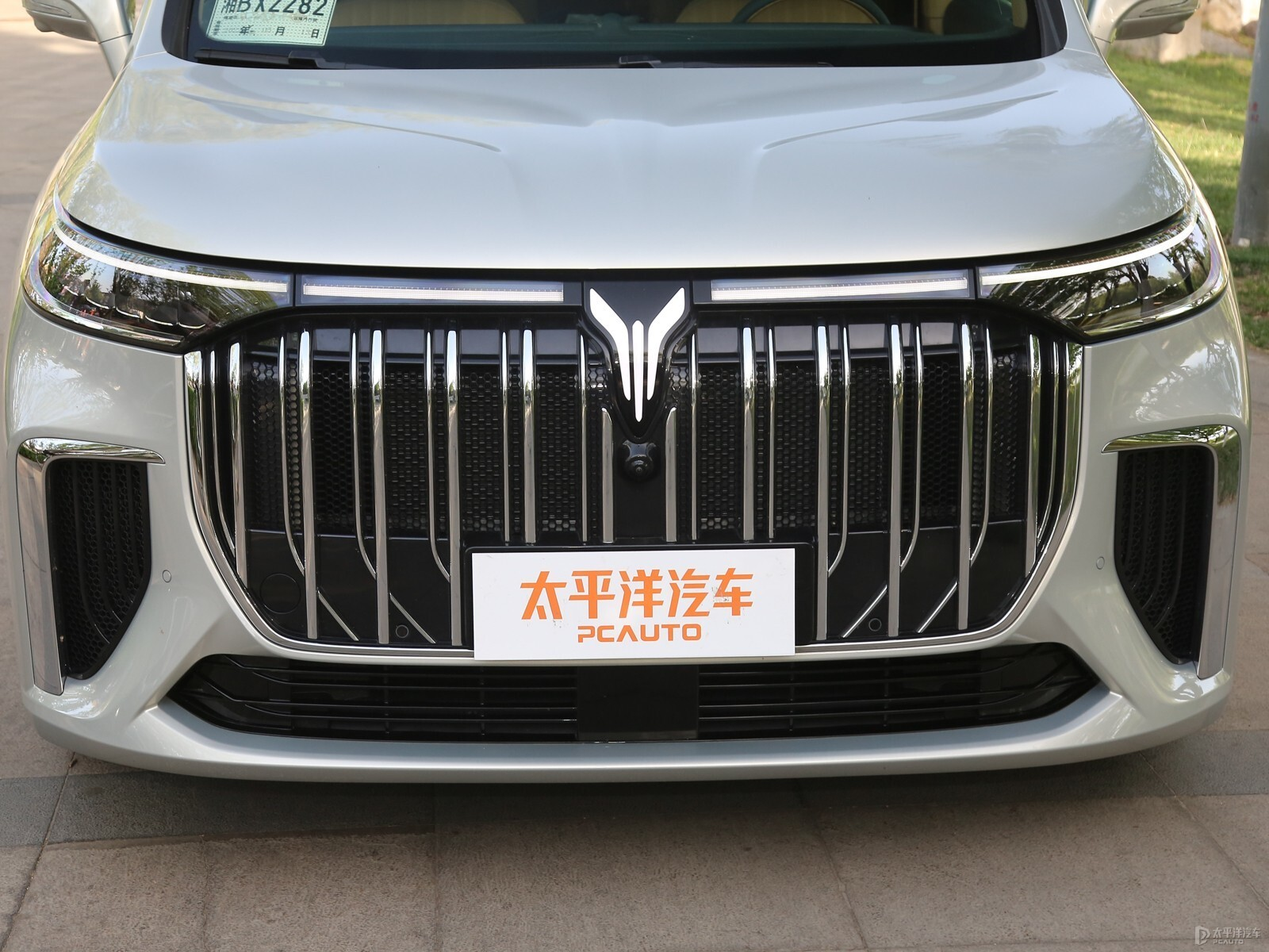VOYAH: (591, 287, 685, 419)
